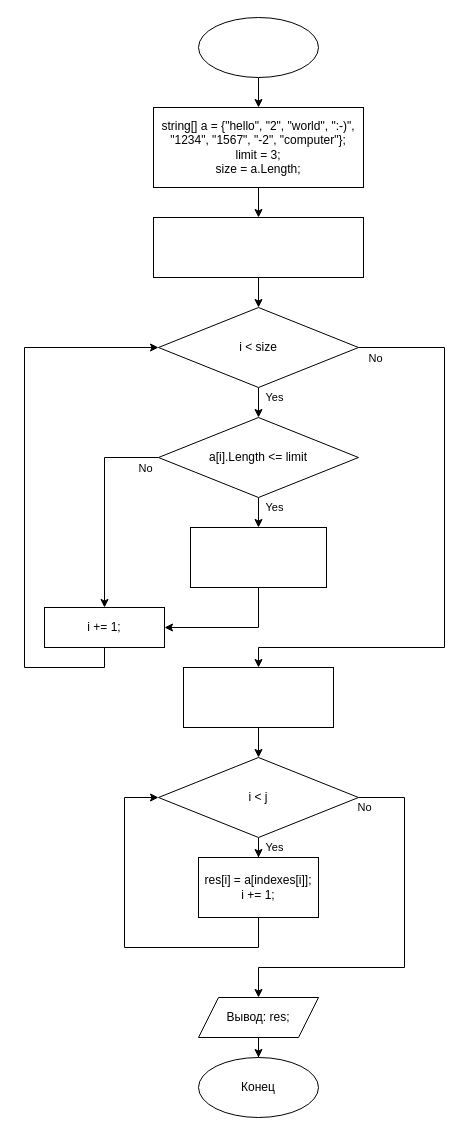
Some shapes in this 470 by 1135 pixel diagram are drawn without their labels. Here are the shapes that lost their labels. From the top down, the box of each, then its label:
(198, 16, 318, 78): Начало
(152, 216, 364, 278): j = 0; int[] indexes = new int[size];
(190, 526, 326, 588): indexes[j] = i; j += 1;
(182, 666, 334, 728): string[] res = new string[j]; i = 0;
